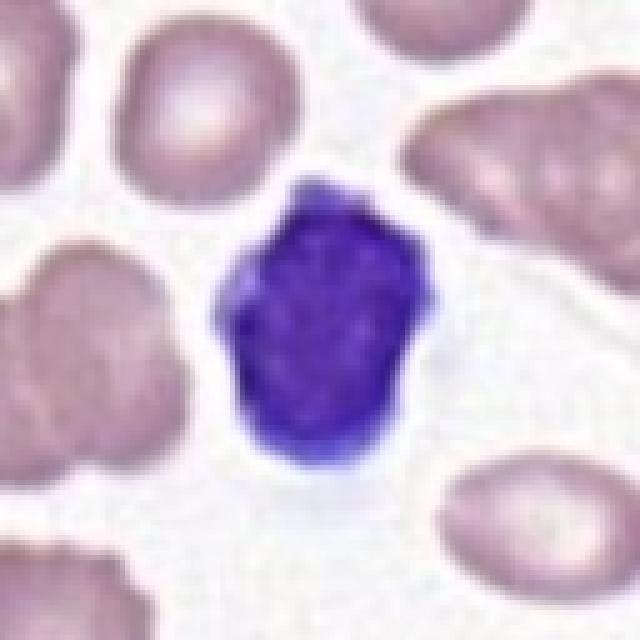lympho: (208, 172, 441, 479)
